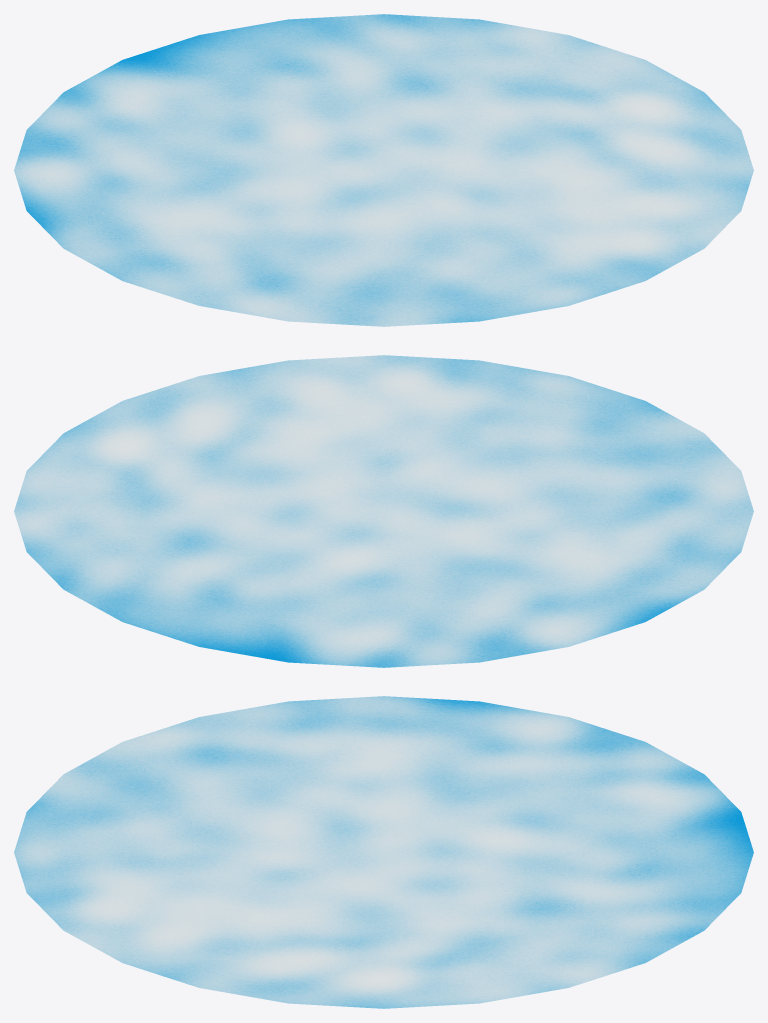
The model's file is sky_floor.fbx.
The picture shows the model from 3 angles, top to bottom: view 1: azimuth 30°, elevation 25°; view 2: azimuth 150°, elevation 25°; view 3: azimuth 270°, elevation 25°; orthographic projection.
Parts seen in each view (by area): view 1: pDisc1; view 2: pDisc1; view 3: pDisc1.
Part boxes in pixels (box(x1,y1,x2,y2)): pDisc1: box(14, 14, 753, 326); pDisc1: box(14, 355, 753, 667); pDisc1: box(14, 696, 753, 1008).
Bounding box in the file's own units: 200 × 0 × 200.
1 material, 1 textured.
